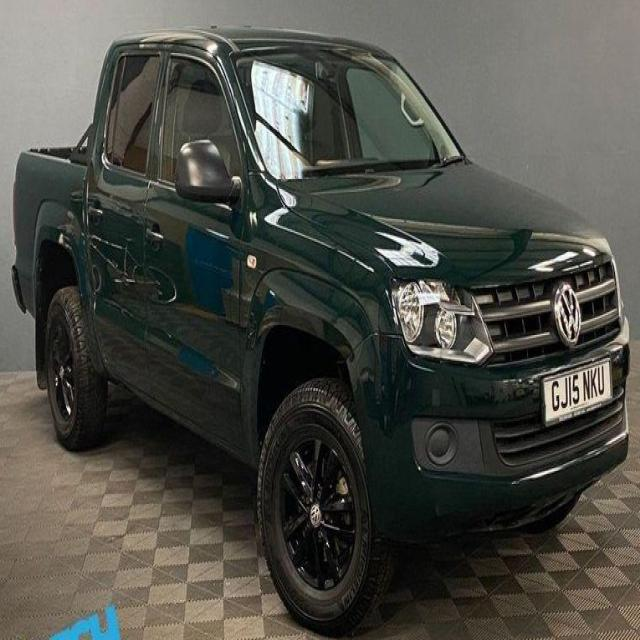CMT: (32, 21, 640, 634)
